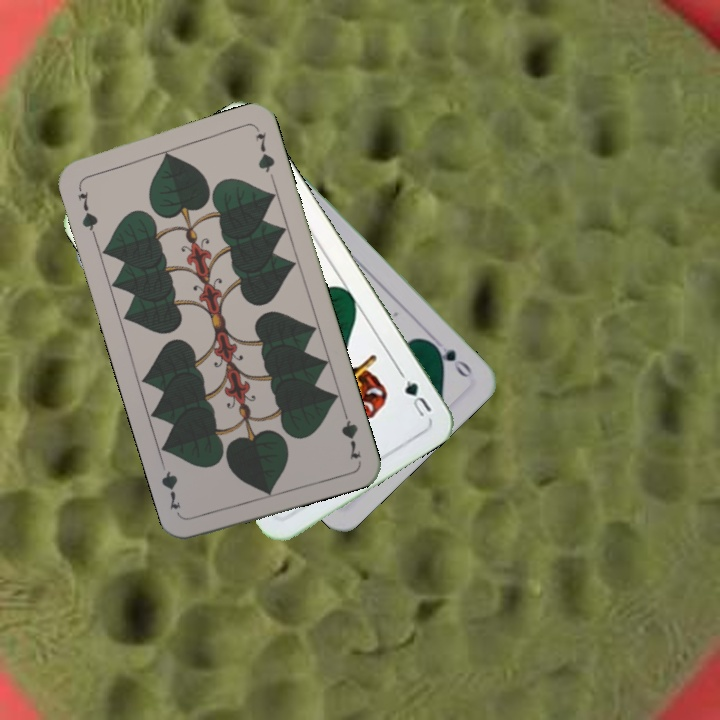G7: (73, 181, 101, 239), (337, 404, 364, 463)
GO: (426, 335, 475, 380)
GU: (400, 376, 435, 422)
